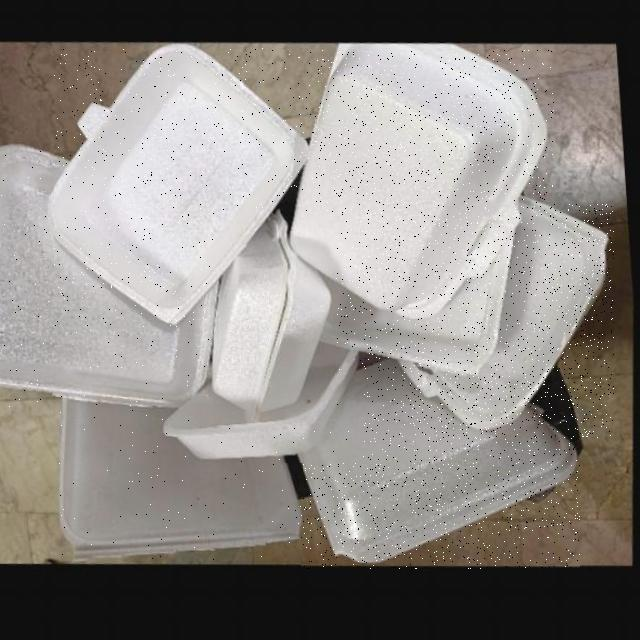styrofoam: (55, 47, 316, 327), (296, 50, 554, 326), (0, 145, 224, 410), (302, 365, 580, 569), (401, 204, 614, 437), (60, 400, 303, 561), (325, 244, 518, 381), (214, 213, 336, 427), (165, 348, 364, 463)
